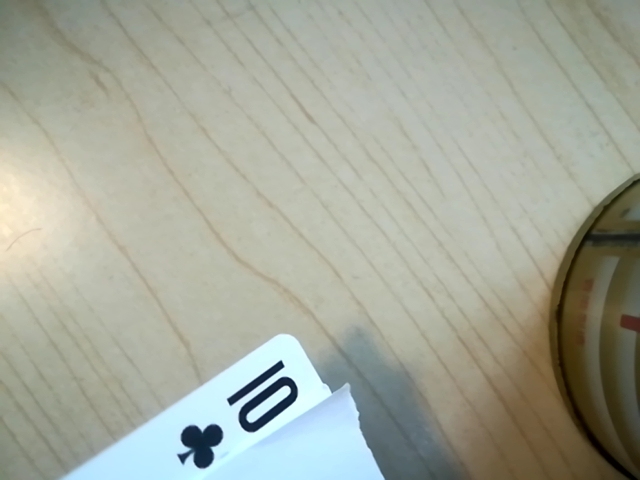mh 10: (169, 360, 326, 466)
